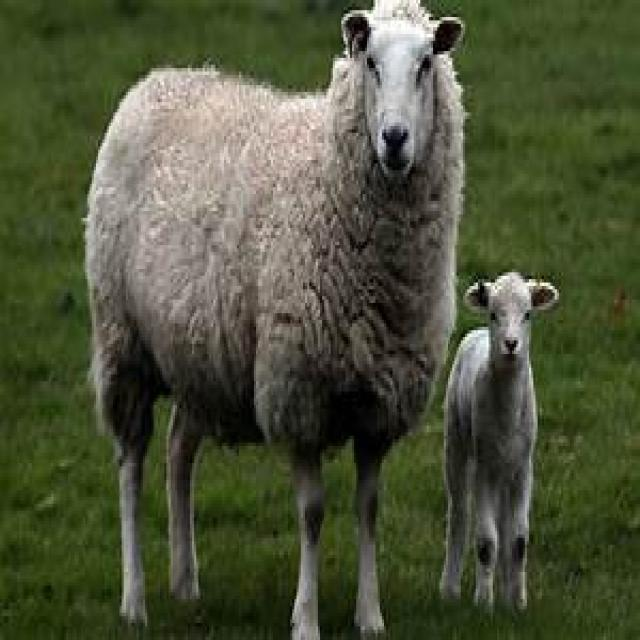sheep: (81, 0, 467, 637), (437, 269, 559, 616)
